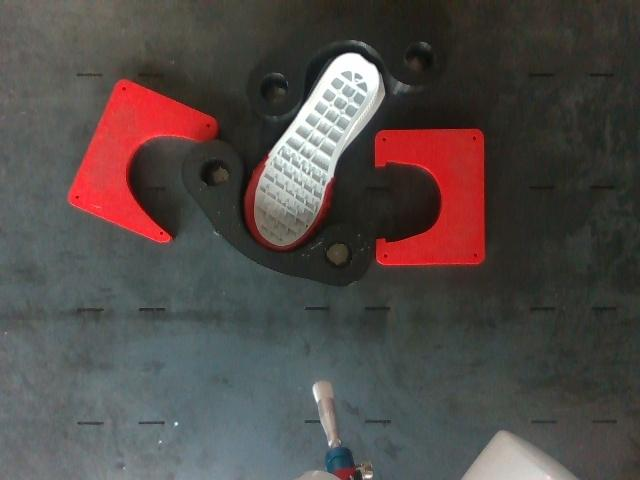shoes: (245, 53, 378, 251)
